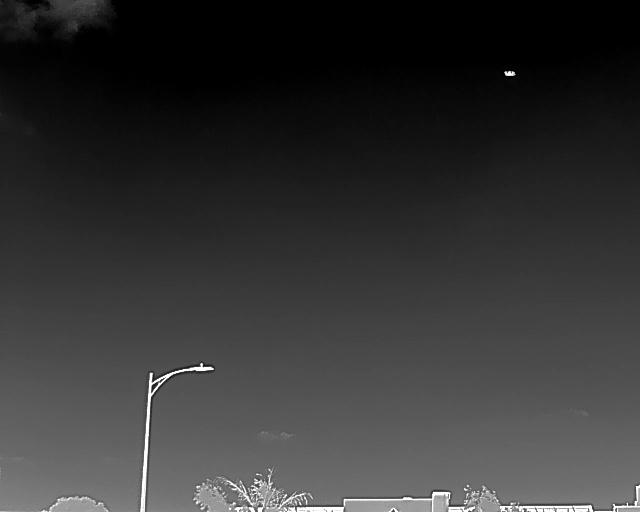fpv-drone: (504, 70, 515, 77)
